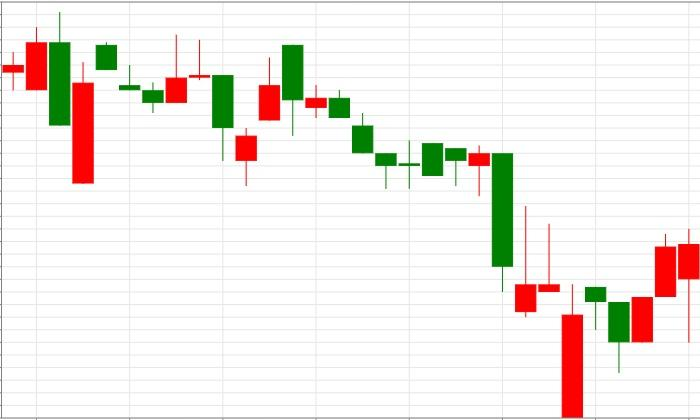inverse_hammer_rise: (352, 112, 537, 317)
